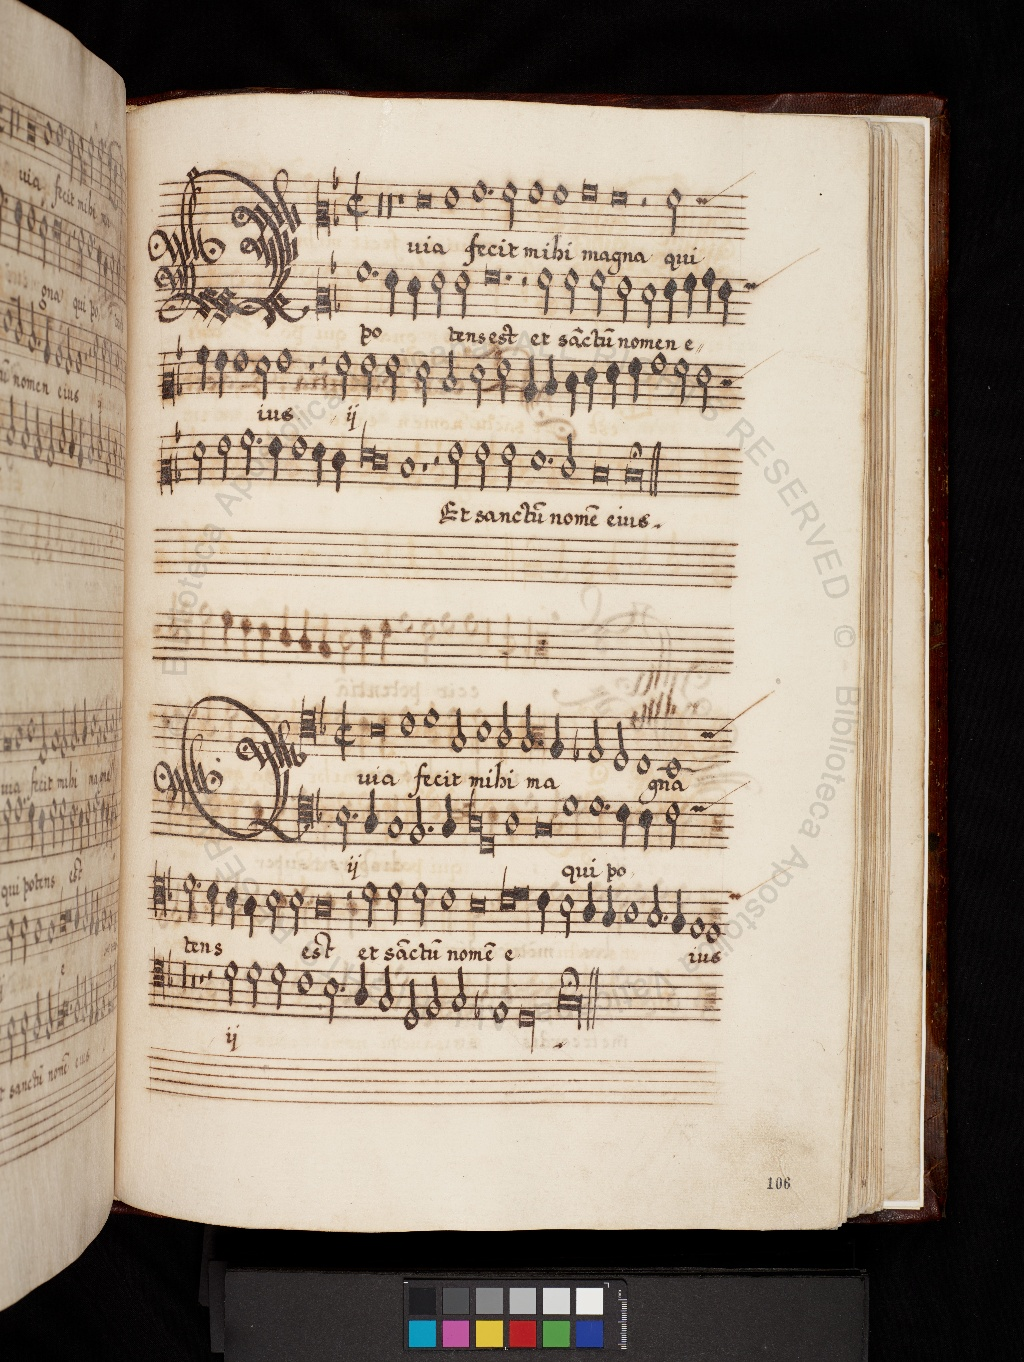breve_4: (477, 258, 504, 294)
c clef_9: (312, 268, 333, 327)
custos_4: (737, 263, 771, 306)
flat_10: (328, 278, 343, 320)
flat_3: (324, 251, 339, 279)
minim rest: (517, 259, 531, 324)
minim_4: (586, 265, 608, 324), (535, 261, 555, 322), (560, 263, 581, 321)
minim_5: (451, 263, 473, 326), (428, 263, 447, 326), (614, 269, 635, 328)
minim_6: (639, 275, 659, 334)
point: (497, 266, 515, 289), (366, 263, 383, 284)
semibreve_4: (351, 253, 372, 290)
semiminim_3: (699, 263, 717, 321)
semiminim_4: (680, 266, 699, 326)
semiminim_5: (382, 260, 401, 323), (715, 271, 734, 332), (662, 270, 679, 330)
semiminim_6: (406, 266, 424, 326)
